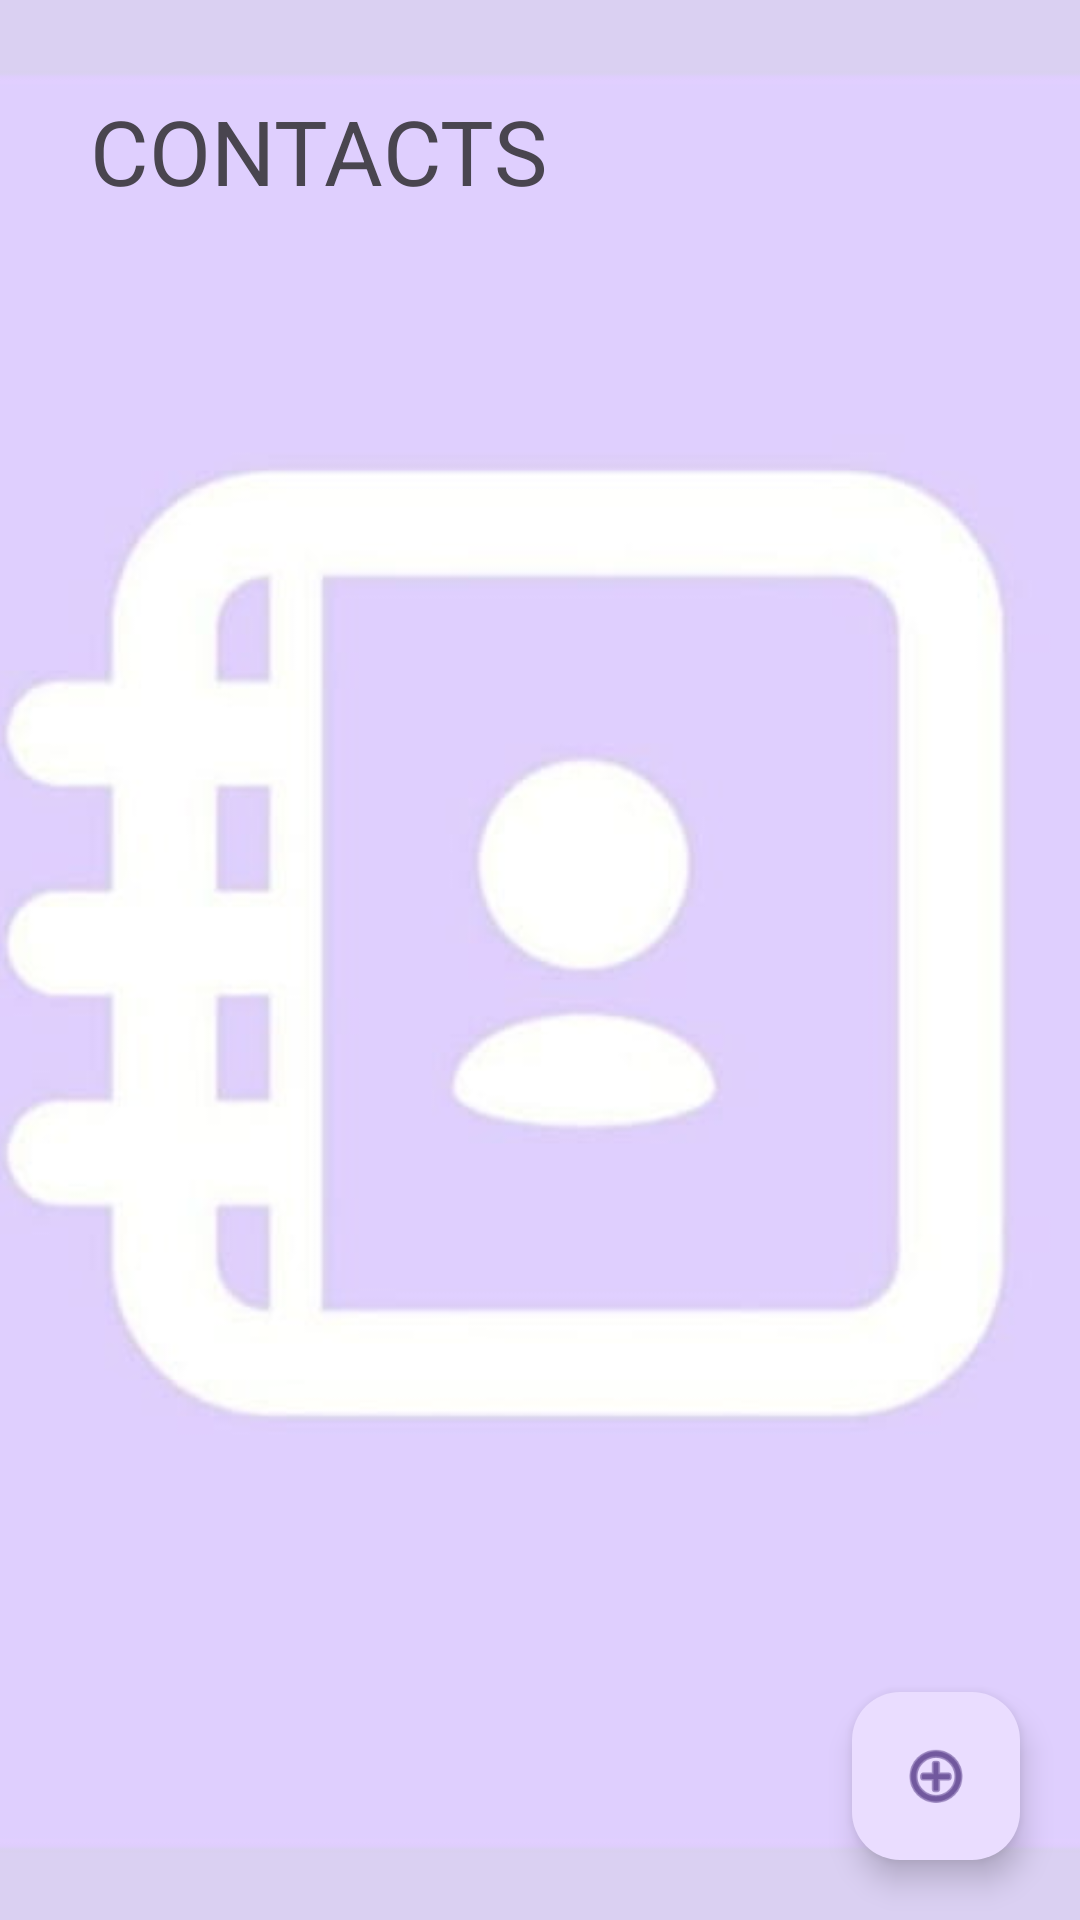

Icons on this 1080w x 1920h Android screen, each with the point to tap as [x,y]:
add: [936,1776]
